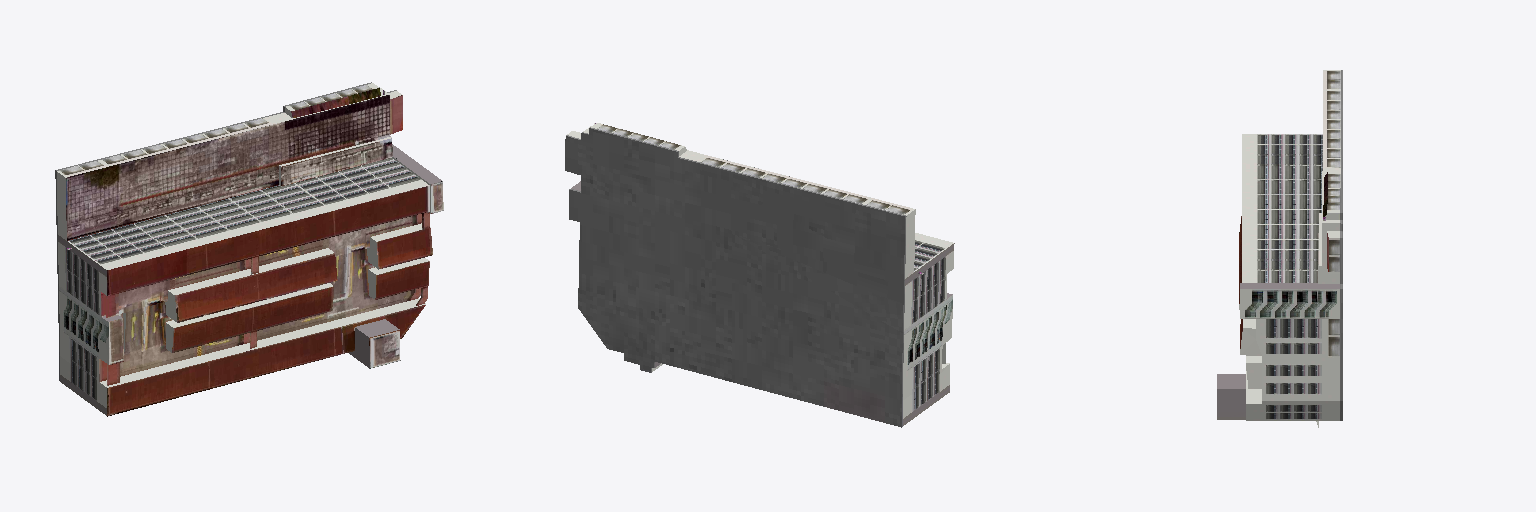
3 renders of one model, left to right at view 1: azimuth 30°, elevation 25°; view 2: azimuth 150°, elevation 25°; view 3: azimuth 270°, elevation 25°, orthographic.
Visible parts, largest first — view 1: polygon.785; view 2: polygon.785; view 3: polygon.785.
Boxes of the visible parts, x1=… form: polygon.785: x1=55, y1=82, x2=443, y2=416; polygon.785: x1=565, y1=123, x2=954, y2=427; polygon.785: x1=1217, y1=70, x2=1342, y2=427.
Bounding box in the file's own units: 81.99 × 52.41 × 26.19.
Materials: 1 (1 with a texture image).